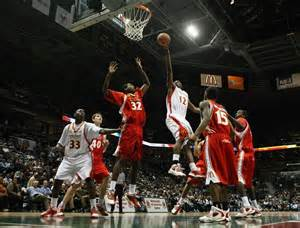basketball: (156, 32, 171, 47)
